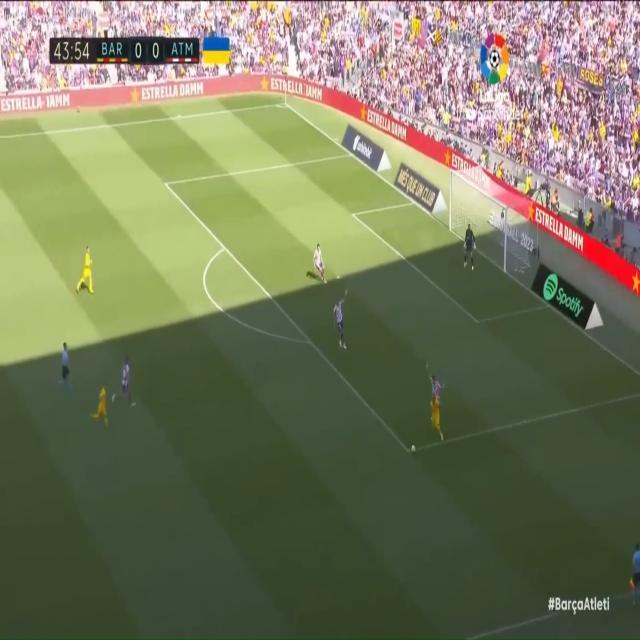ball: (409, 436, 418, 454)
goalkeeper: (463, 224, 479, 272)
player: (76, 243, 102, 295), (329, 293, 351, 351), (115, 351, 135, 411), (425, 359, 447, 404), (427, 395, 447, 443), (92, 377, 110, 428), (311, 241, 330, 279)
referee: (55, 337, 75, 383), (628, 533, 640, 608)
